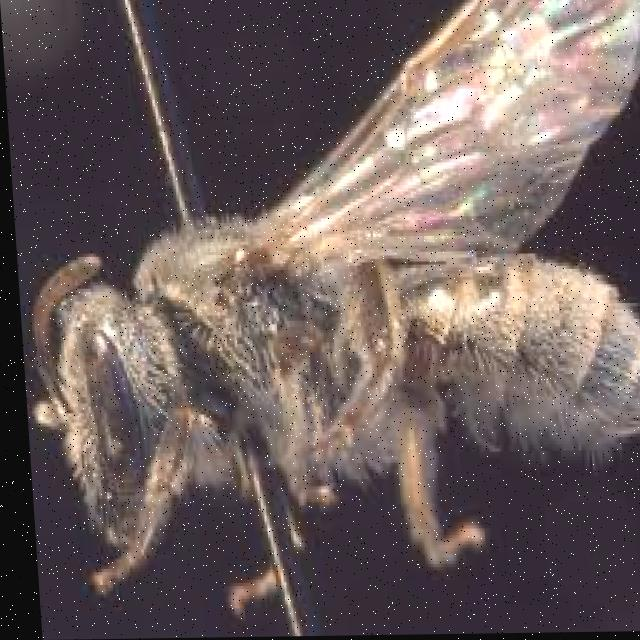Lasioglossum: (13, 0, 640, 608)
